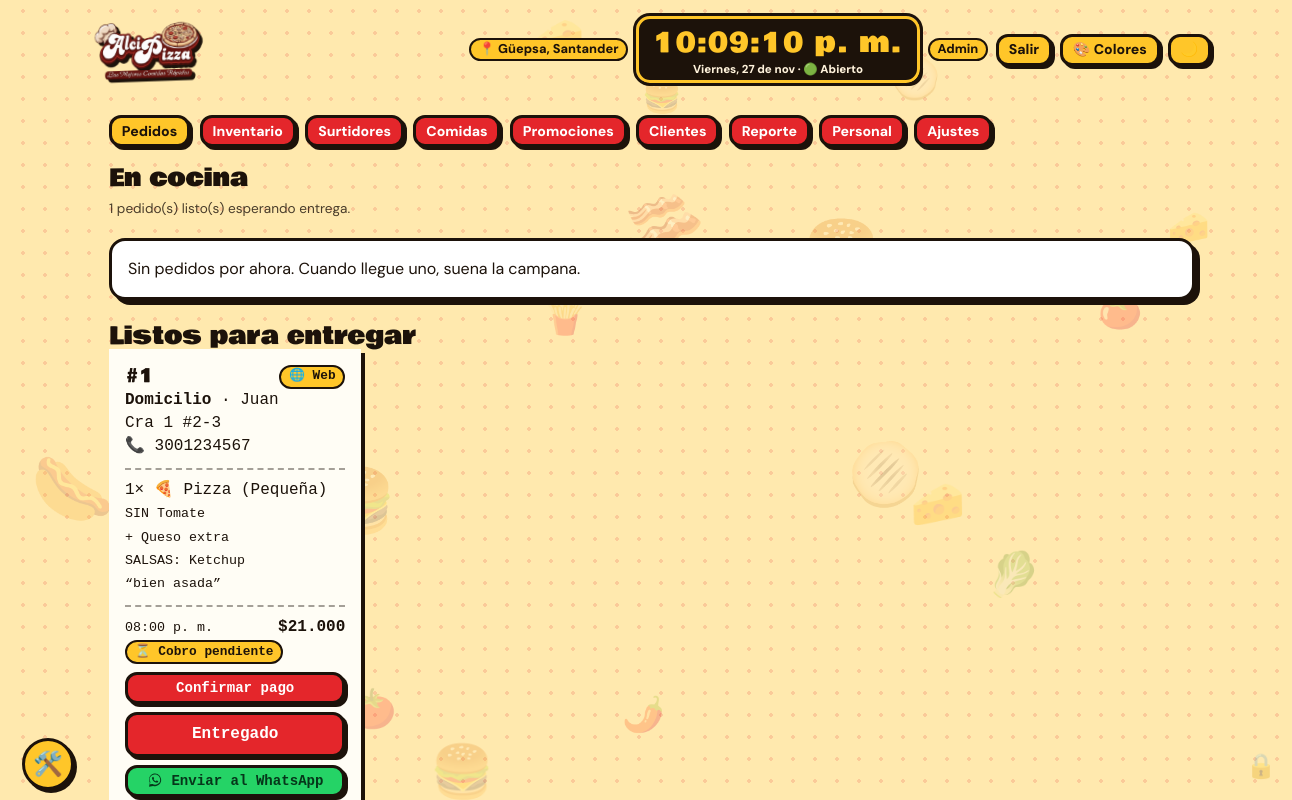
Scenario: Pestaña Pedidos › los listos se marcan como entregados
Click the button "Entregado". click: click(235, 734)
box: [125,712,345,757]
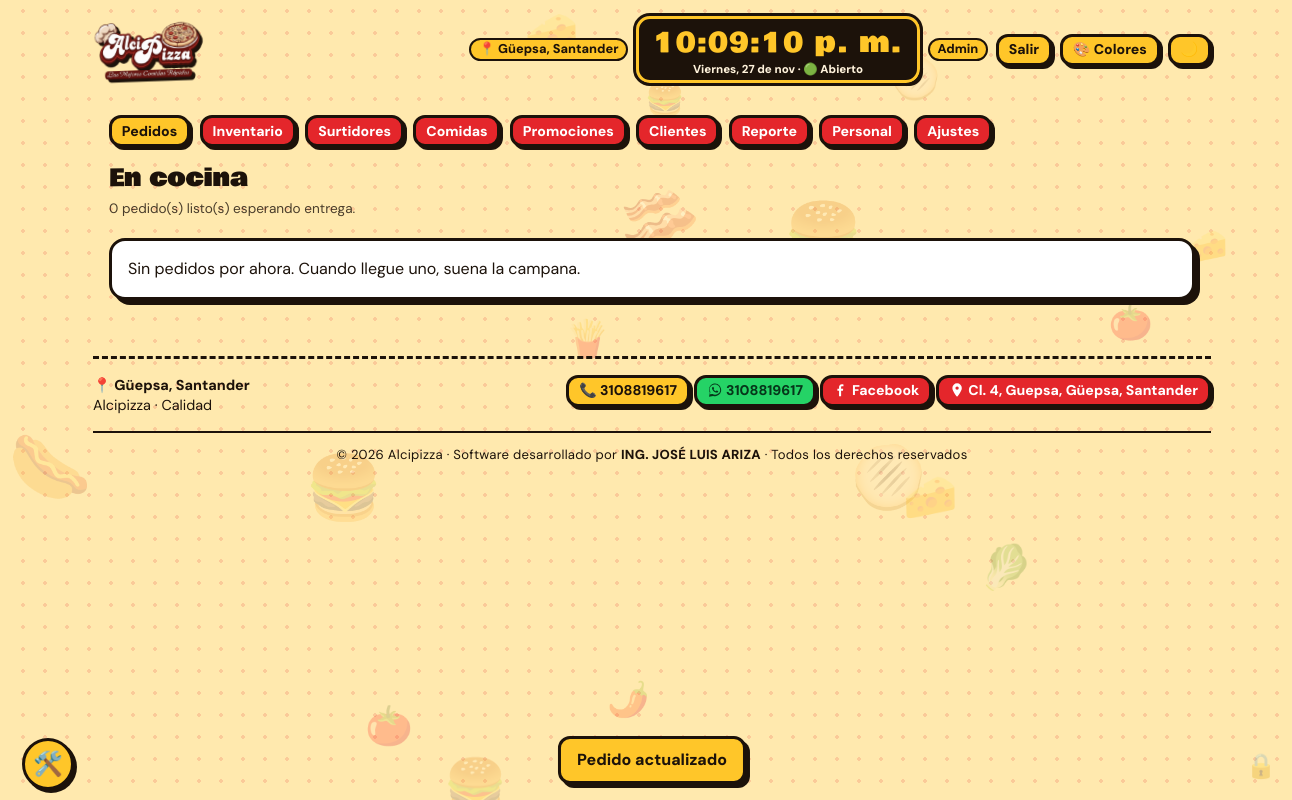
Now the text "0 pedido(s) listo(s) esperando entrega." is shown, box [109,200,355,217]
